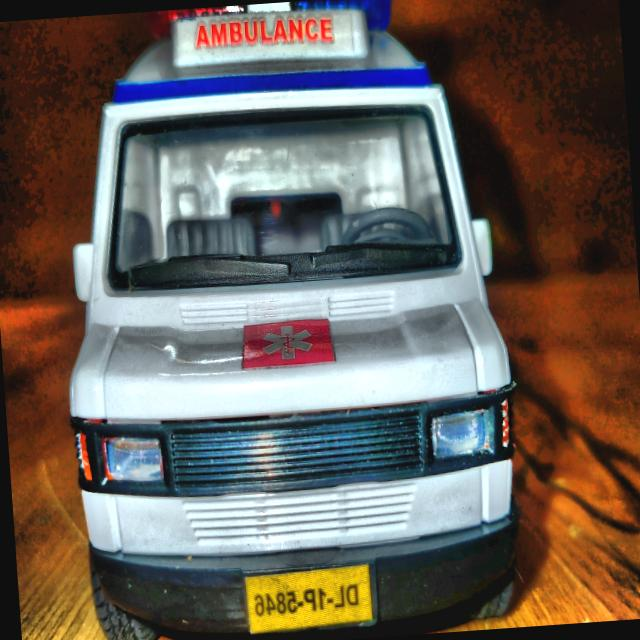Ambulance: (43, 0, 528, 640)
